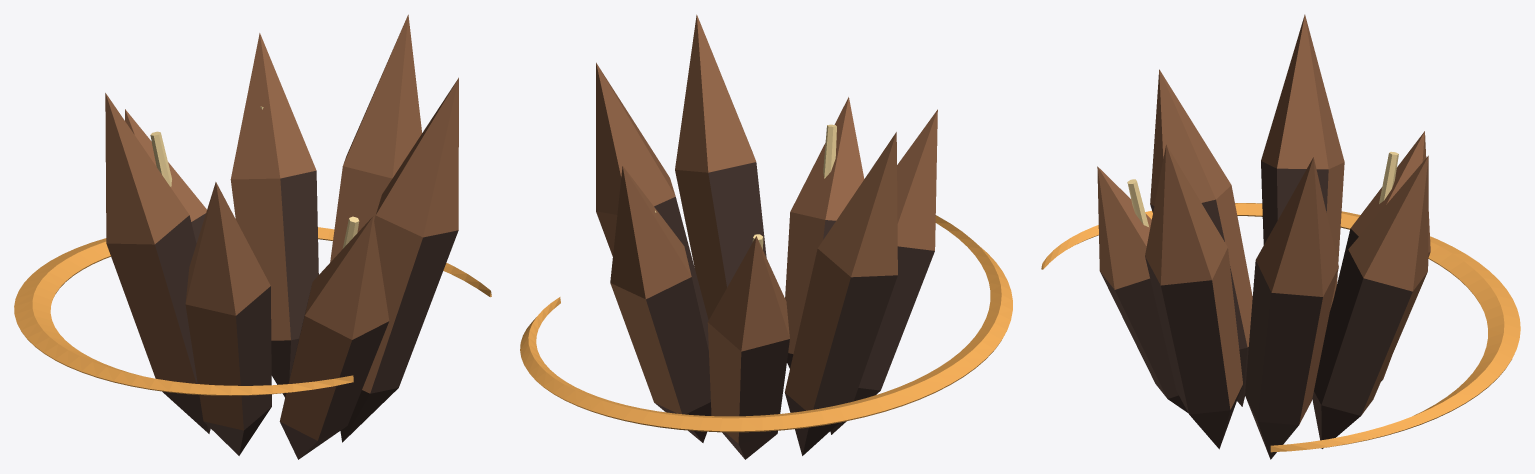
Rendered from VFX_37_RocciaCuoreFratturato.fbx.
The picture shows the model from 3 angles, left to right: view 1: azimuth 30°, elevation 25°; view 2: azimuth 150°, elevation 25°; view 3: azimuth 270°, elevation 25°; orthographic projection. The views are drawn at different scales.
Parts seen in each view (by area): view 1: VFX_37_RocciaCuoreFratturato; view 2: VFX_37_RocciaCuoreFratturato; view 3: VFX_37_RocciaCuoreFratturato.
Boxes of the visible parts, x1,y1,x2,y2 form: VFX_37_RocciaCuoreFratturato: (14, 14, 491, 459); VFX_37_RocciaCuoreFratturato: (520, 14, 1012, 459); VFX_37_RocciaCuoreFratturato: (1041, 14, 1520, 459).
Size of the model in its own units: 280 by 221 by 277.
Materials: 1 (1 with a texture image).
